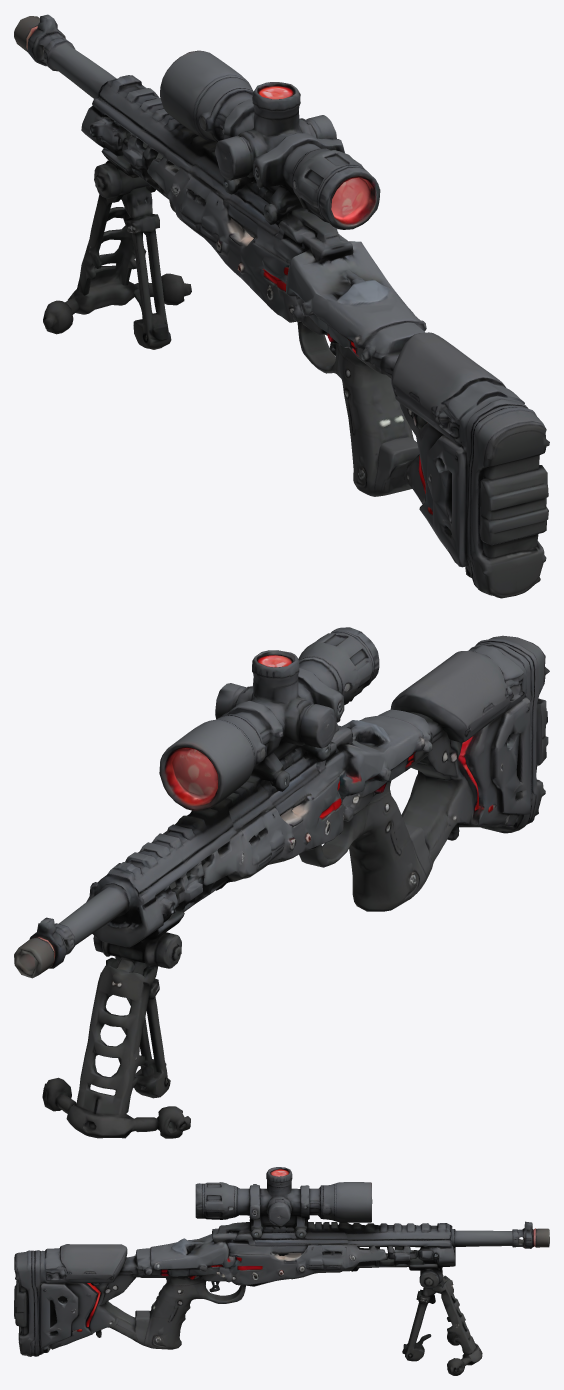
The model's file is sniper.glb.
3 renders of one model, top to bottom at view 1: azimuth 30°, elevation 25°; view 2: azimuth 150°, elevation 25°; view 3: azimuth 270°, elevation 25°, orthographic. The views are drawn at different scales.
Visible parts, largest first — view 1: tripo_node_d26c5263-1e05-4357-b794-5276d2e53c6f; view 2: tripo_node_d26c5263-1e05-4357-b794-5276d2e53c6f; view 3: tripo_node_d26c5263-1e05-4357-b794-5276d2e53c6f.
Boxes of the visible parts, x1=… form: tripo_node_d26c5263-1e05-4357-b794-5276d2e53c6f: x1=14, y1=14, x2=549, y2=598; tripo_node_d26c5263-1e05-4357-b794-5276d2e53c6f: x1=14, y1=627, x2=549, y2=1138; tripo_node_d26c5263-1e05-4357-b794-5276d2e53c6f: x1=14, y1=1167, x2=549, y2=1375.
Size of the model in its own units: 0.1726 by 0.3879 by 1.
Materials: 1 (1 with a texture image).
